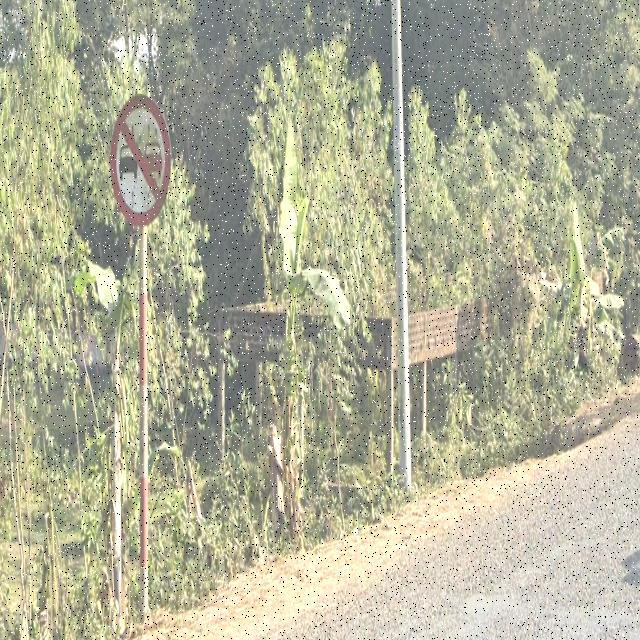Don-t-Overtracking: (108, 83, 177, 248)
